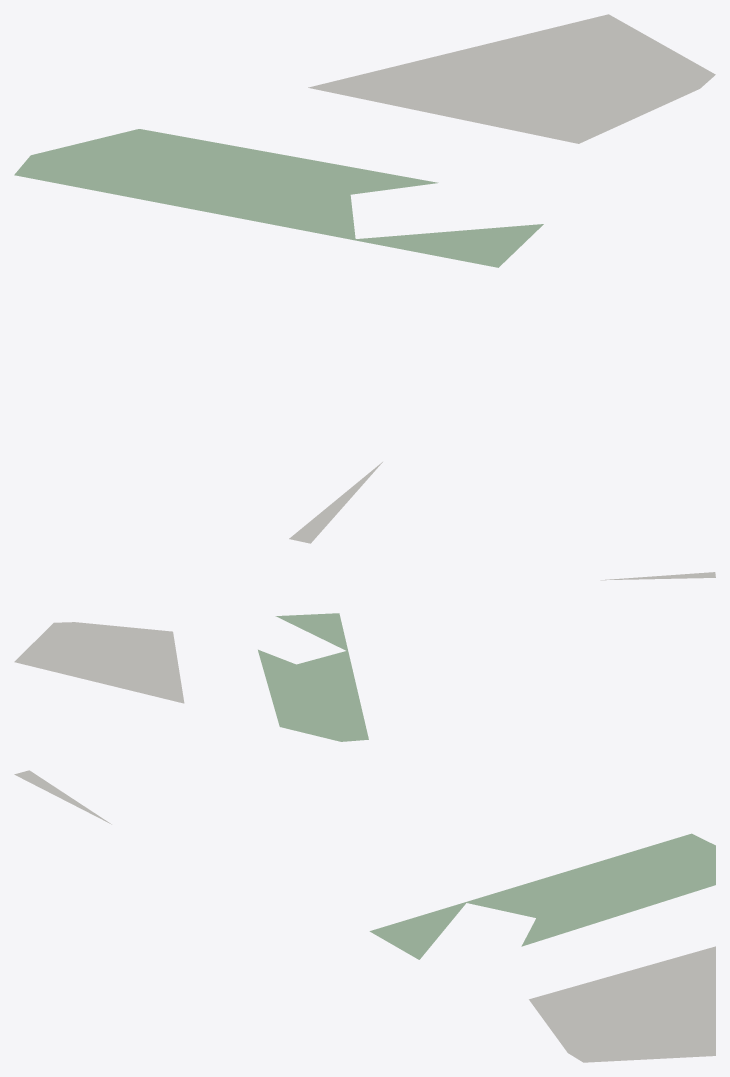
File: 139_86_mid.glb
3 views of the same model, one above another, from view 1: azimuth 30°, elevation 25°; view 2: azimuth 150°, elevation 25°; view 3: azimuth 270°, elevation 25° (orthographic). The views are drawn at different scales.
Size of the model in its own units: 342 by 0.9585 by 349.
